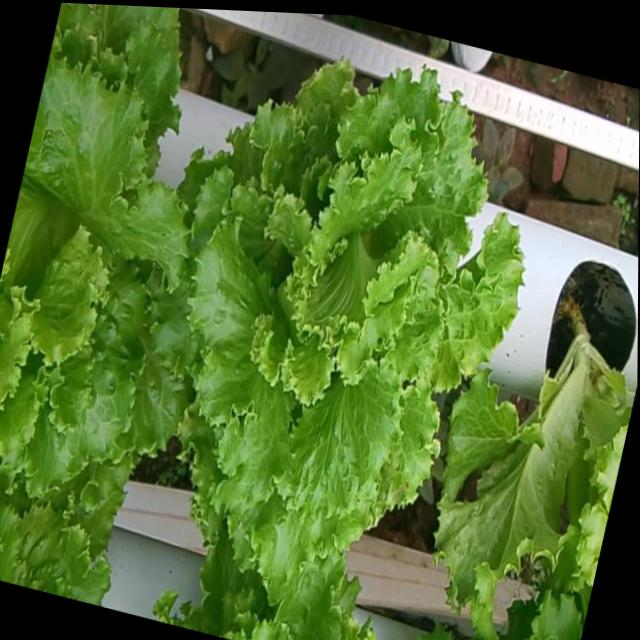Mature: (173, 50, 518, 569), (0, 38, 189, 484)
